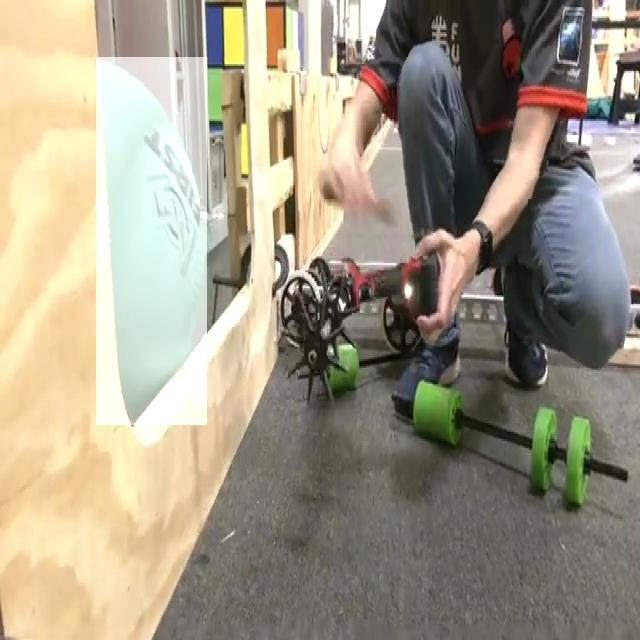Algae: (96, 57, 207, 425)
